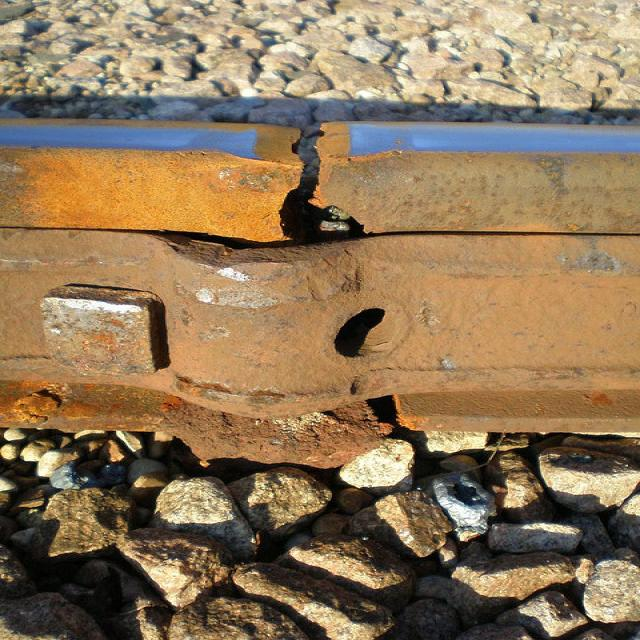crack: (225, 102, 409, 262)
